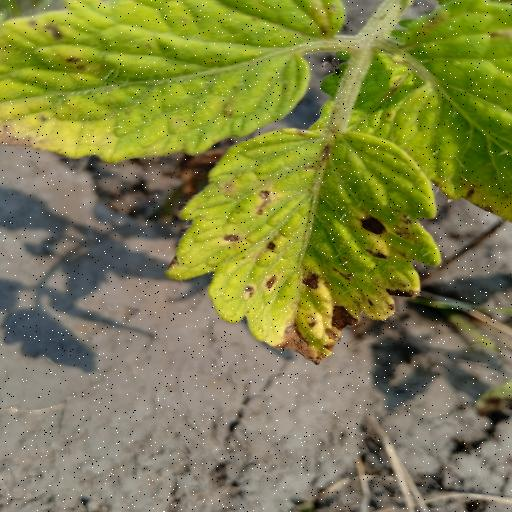Tomato_Brown_Spots: (162, 123, 448, 367), (0, 0, 354, 166), (339, 0, 512, 226)
